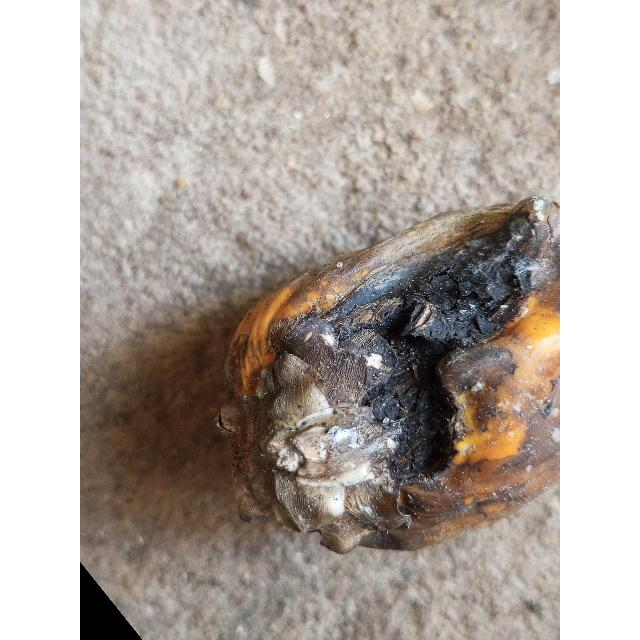damaged: (214, 197, 560, 558)
